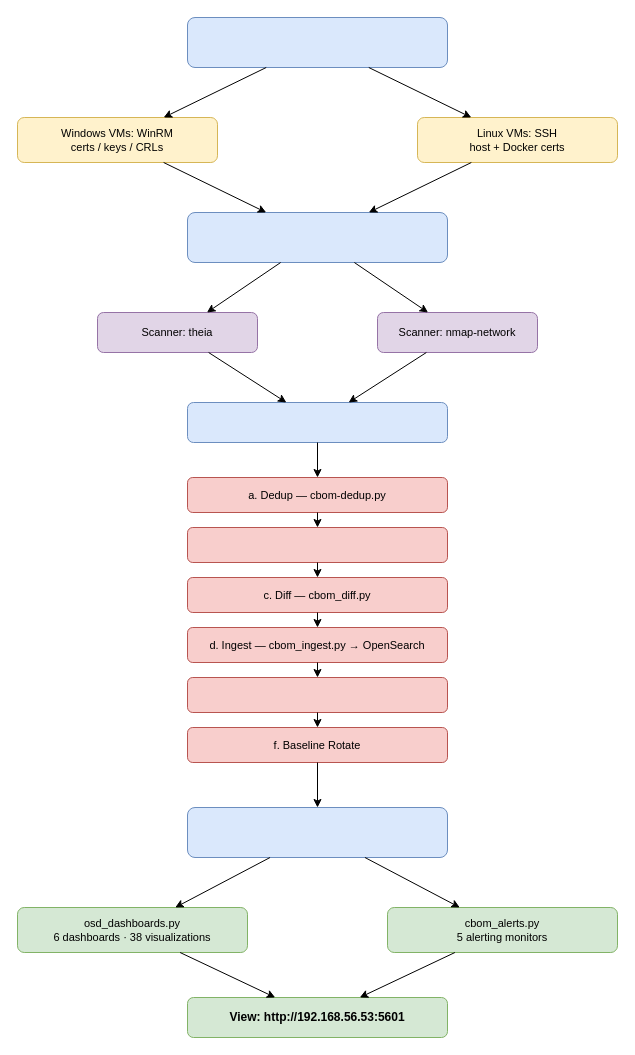
This 635x1055 diagram has some shape labels left out. Each missing label, with the centre of its shape:
"1. Export Phase cbom-scan.sh --export-only" goes at [317,42].
"2. CBOM Generation cbomkit-theia" goes at [317,237].
"3. Per-Scanner Pipeline" goes at [317,422].
"4. Dashboards & Alerts one-time setup" goes at [317,832].
"b. Validate — cbom_validate.py" goes at [317,544].
"e. Score — cbom_score.py → PQC readiness" goes at [317,694].
